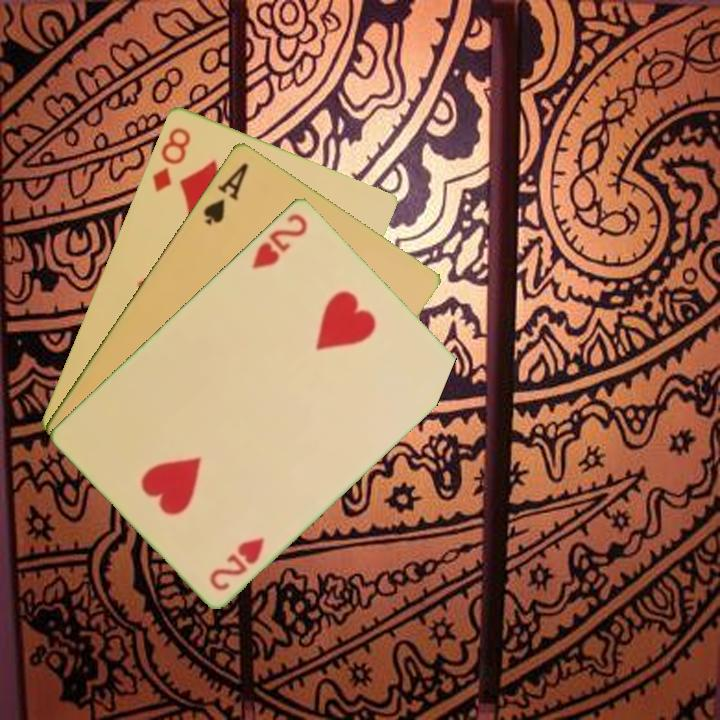2h: (248, 209, 311, 271), (206, 533, 267, 593)
8d: (148, 123, 194, 195)
As: (199, 158, 252, 228)
